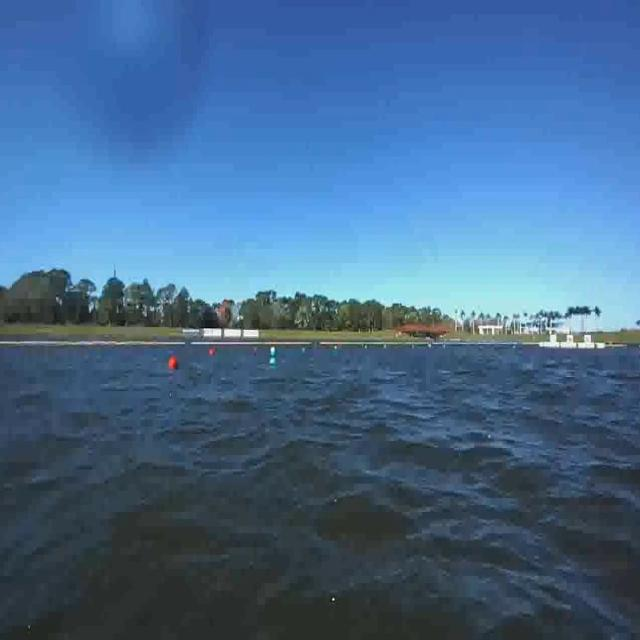green-buoy: (266, 349, 278, 370)
red-buoy: (170, 356, 178, 370)
